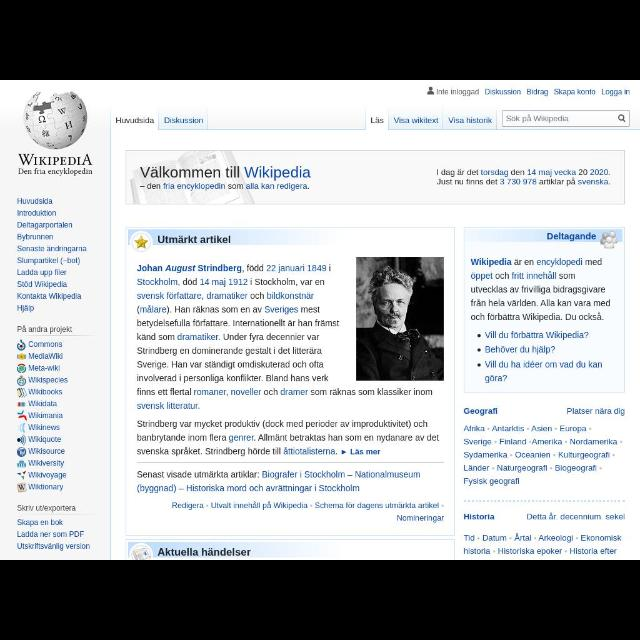backgroundimage: (125, 152, 625, 202)
icon: (615, 111, 627, 125), (428, 86, 434, 95)
image: (356, 258, 444, 382), (16, 88, 98, 176), (602, 232, 618, 248), (132, 545, 150, 559), (135, 236, 147, 248), (17, 446, 27, 456), (18, 387, 27, 397), (18, 410, 27, 420), (18, 482, 27, 492), (17, 340, 25, 350), (17, 364, 25, 374), (18, 376, 26, 386), (16, 423, 26, 431), (17, 460, 27, 468), (16, 471, 26, 479), (18, 436, 26, 444), (16, 353, 26, 359), (18, 402, 26, 406)
input: (502, 110, 630, 128)
multitab: (364, 112, 500, 130), (114, 112, 210, 132)
text: (136, 264, 342, 384), (134, 388, 442, 458), (464, 422, 622, 491), (470, 254, 614, 326), (476, 327, 606, 385), (138, 470, 422, 492), (436, 168, 614, 190), (140, 164, 312, 180), (173, 501, 445, 509), (138, 184, 310, 190), (156, 233, 230, 244), (525, 514, 625, 522), (158, 549, 252, 557), (463, 536, 621, 540), (506, 115, 568, 125), (464, 550, 616, 554), (555, 86, 597, 100), (568, 406, 626, 416), (18, 543, 90, 551), (545, 232, 595, 242), (18, 293, 80, 301), (19, 257, 80, 265), (19, 245, 86, 252), (437, 87, 481, 97), (18, 221, 72, 229), (18, 326, 72, 334), (484, 86, 518, 98), (17, 532, 84, 538), (398, 514, 444, 522), (604, 85, 632, 98), (394, 117, 438, 125), (18, 505, 76, 511), (464, 512, 496, 522), (28, 376, 68, 384), (18, 210, 56, 218), (27, 340, 64, 348), (29, 472, 66, 480), (17, 196, 53, 204), (28, 448, 64, 456), (18, 270, 66, 276), (27, 388, 62, 396), (17, 520, 63, 526), (29, 352, 63, 360), (28, 412, 62, 420), (18, 233, 52, 241), (28, 436, 61, 444), (448, 118, 492, 124), (28, 459, 64, 466), (29, 484, 63, 491), (524, 86, 550, 95), (463, 408, 501, 414), (117, 118, 155, 124), (165, 118, 203, 124), (29, 424, 61, 431), (29, 365, 61, 371), (18, 282, 66, 286), (28, 401, 56, 407), (18, 305, 34, 313), (371, 118, 384, 124)
